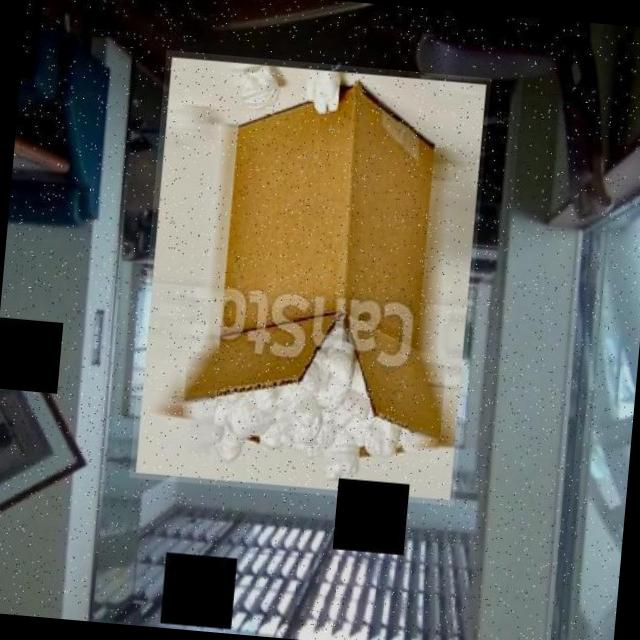box: (128, 49, 490, 506)
